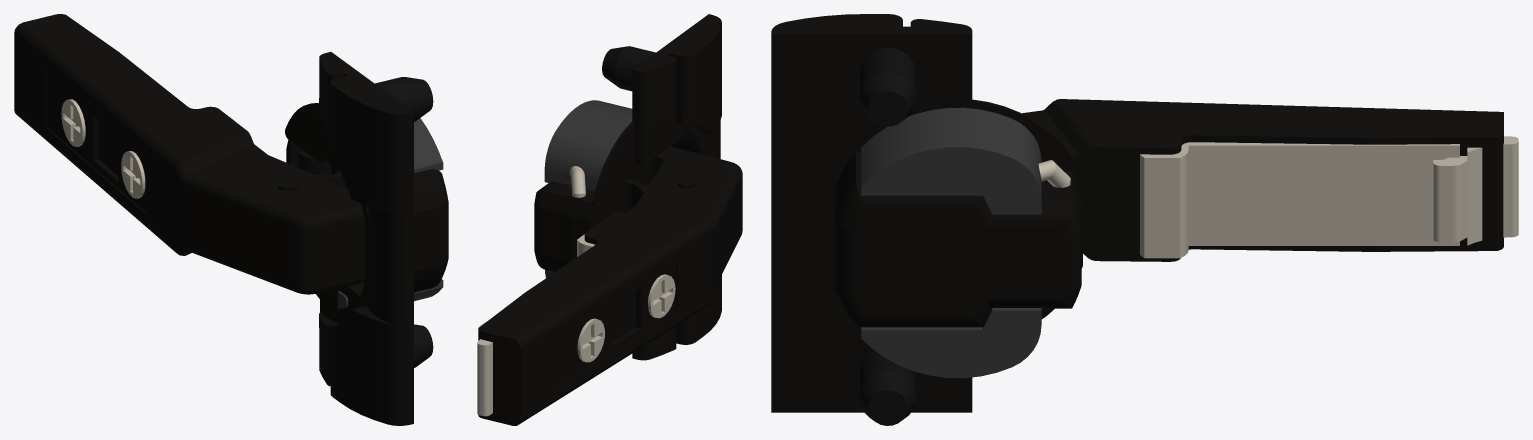
3 views of the same model, side by side, from view 1: azimuth 30°, elevation 25°; view 2: azimuth 150°, elevation 25°; view 3: azimuth 270°, elevation 25° (orthographic). The views are drawn at different scales.
Visible parts, largest first — view 1: bau0016451269-1, bau0016962400-1, bau0015167363-1; view 2: bau0016451269-1, bau0016962400-1, bau0015167363-1, bau0019426112-1, bau0015167707-1; view 3: bau0016962400-1, bau0019426112-1, bau0016451269-1.
Boxes of the visible parts, left/top/right/bottom form: bau0016451269-1: left=14, top=14, right=365, bottom=294; bau0016962400-1: left=285, top=52, right=448, bottom=425; bau0015167363-1: left=298, top=150, right=347, bottom=188; bau0016451269-1: left=478, top=146, right=742, bottom=425; bau0016962400-1: left=534, top=14, right=721, bottom=360; bau0015167363-1: left=566, top=179, right=648, bottom=262; bau0019426112-1: left=477, top=234, right=594, bottom=416; bau0015167707-1: left=628, top=161, right=652, bottom=184; bau0016962400-1: left=771, top=14, right=1081, bottom=425; bau0019426112-1: left=1140, top=136, right=1518, bottom=258; bau0016451269-1: left=1022, top=99, right=1503, bottom=261.
Bounding box in the file's own units: 35.78 × 57 × 102.
